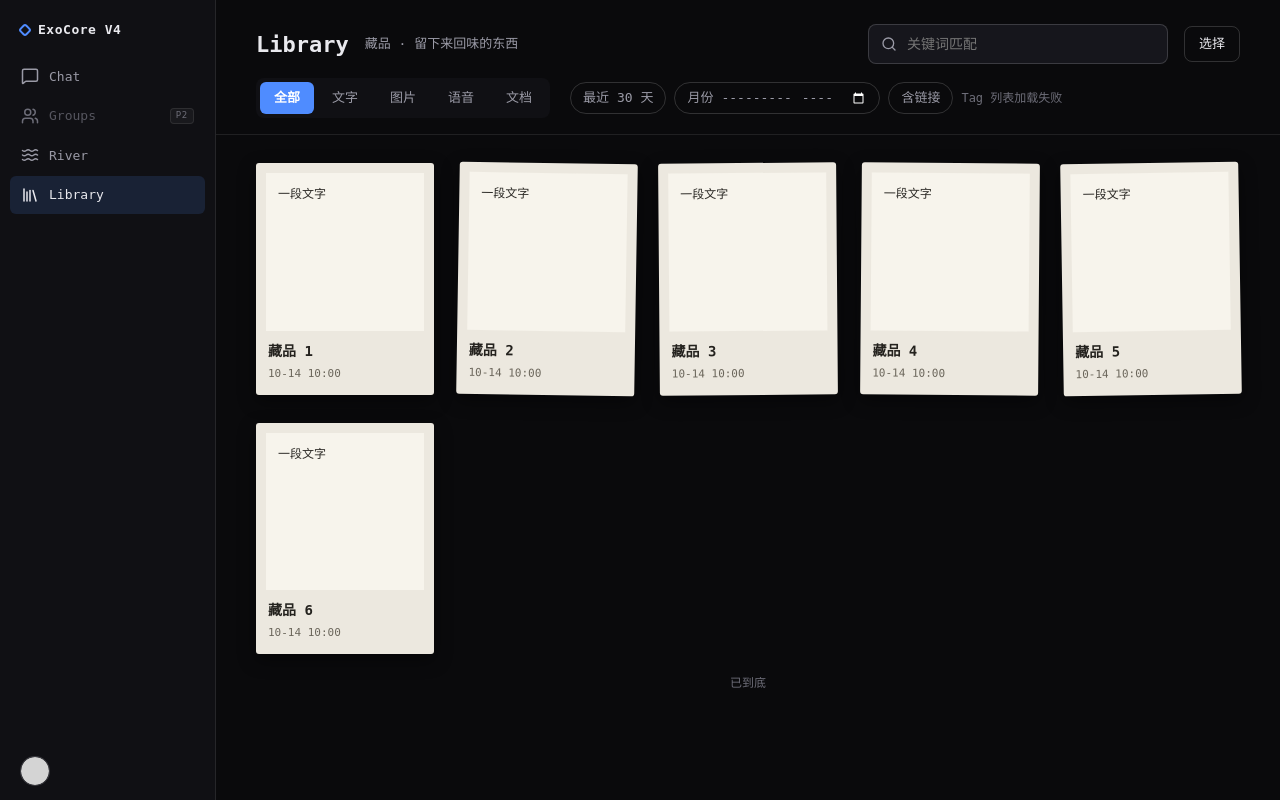
Test case: Library → chat bring-back (#61 CP5) › a card-only send carries collection_items in order with empty content and clears the cards
What coordinates should you click on to do the following:
click the button "选择"
I would click on:
 (1212, 44)
Its box is [1184,26,1240,62].
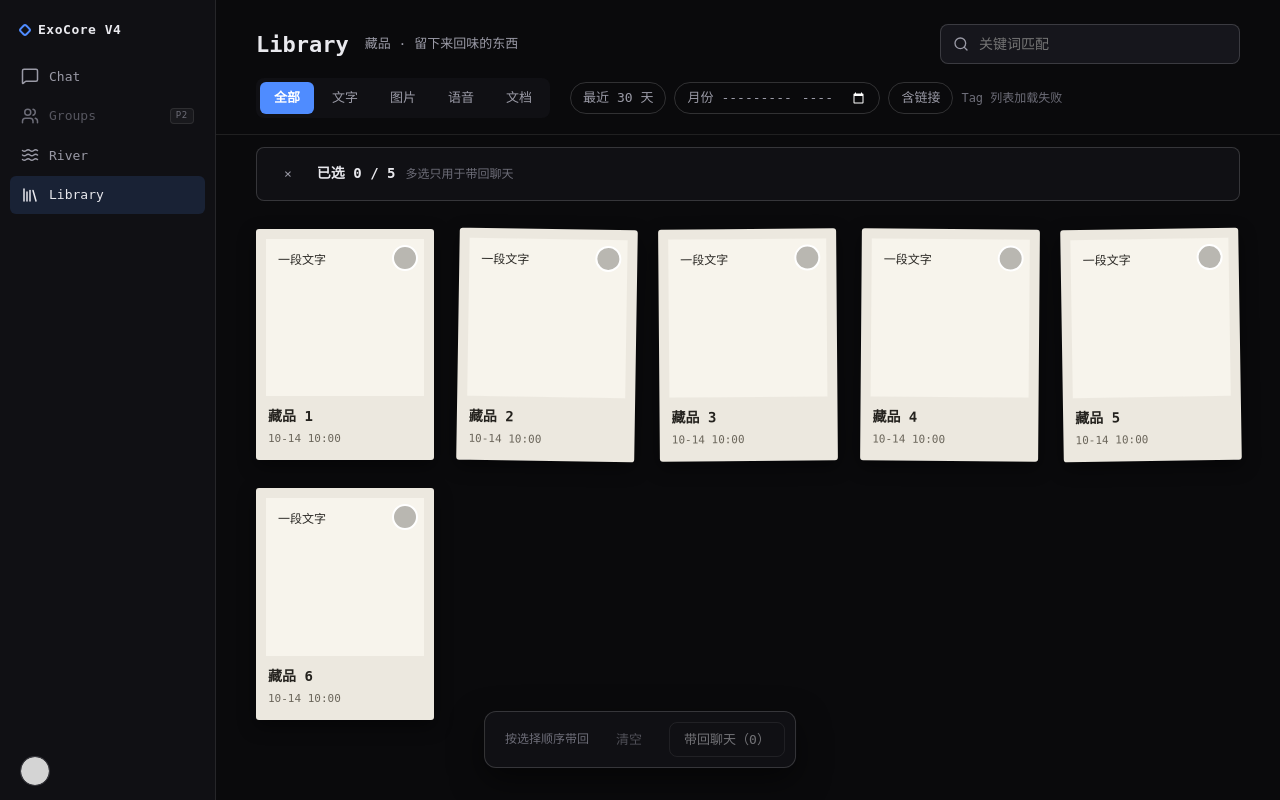
What coordinates should you click on to do the following:
click the button "藏品 6"
I would click on:
 (345, 676)
Its box is [268,666,422,687].
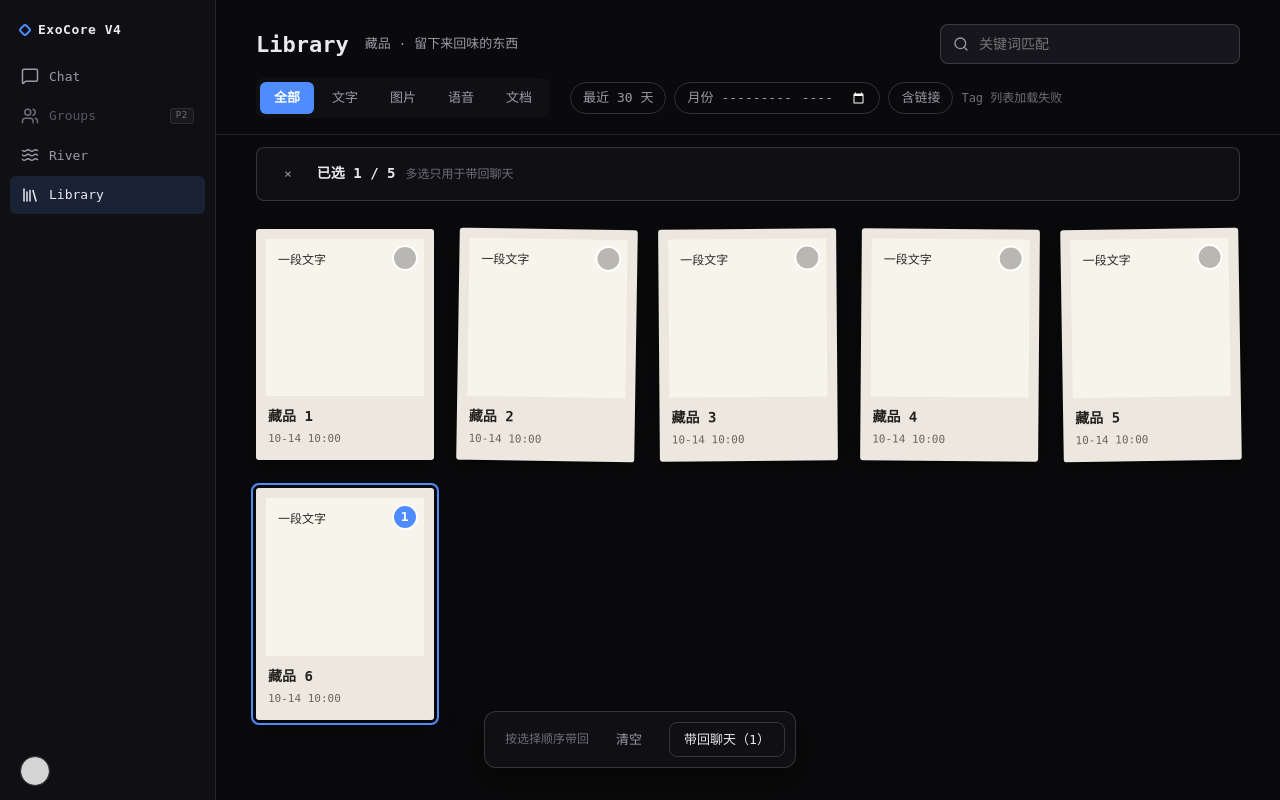
What coordinates should you click on to do the following:
click the button "藏品 2"
I would click on:
 (545, 417)
Its box is [468,405,622,428].
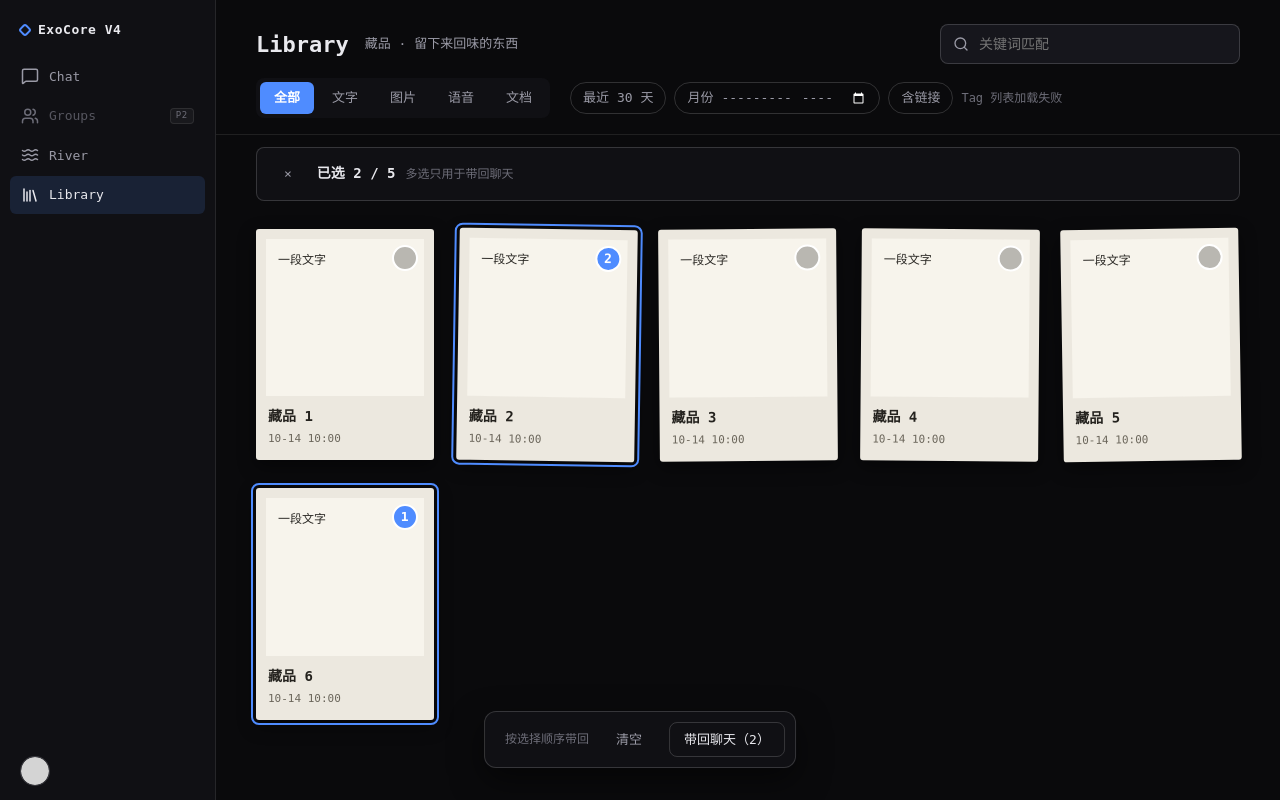
What coordinates should you click on to do the following:
click the button "带回聊天（2）"
I would click on:
 (727, 739)
Its box is [669,722,785,757].
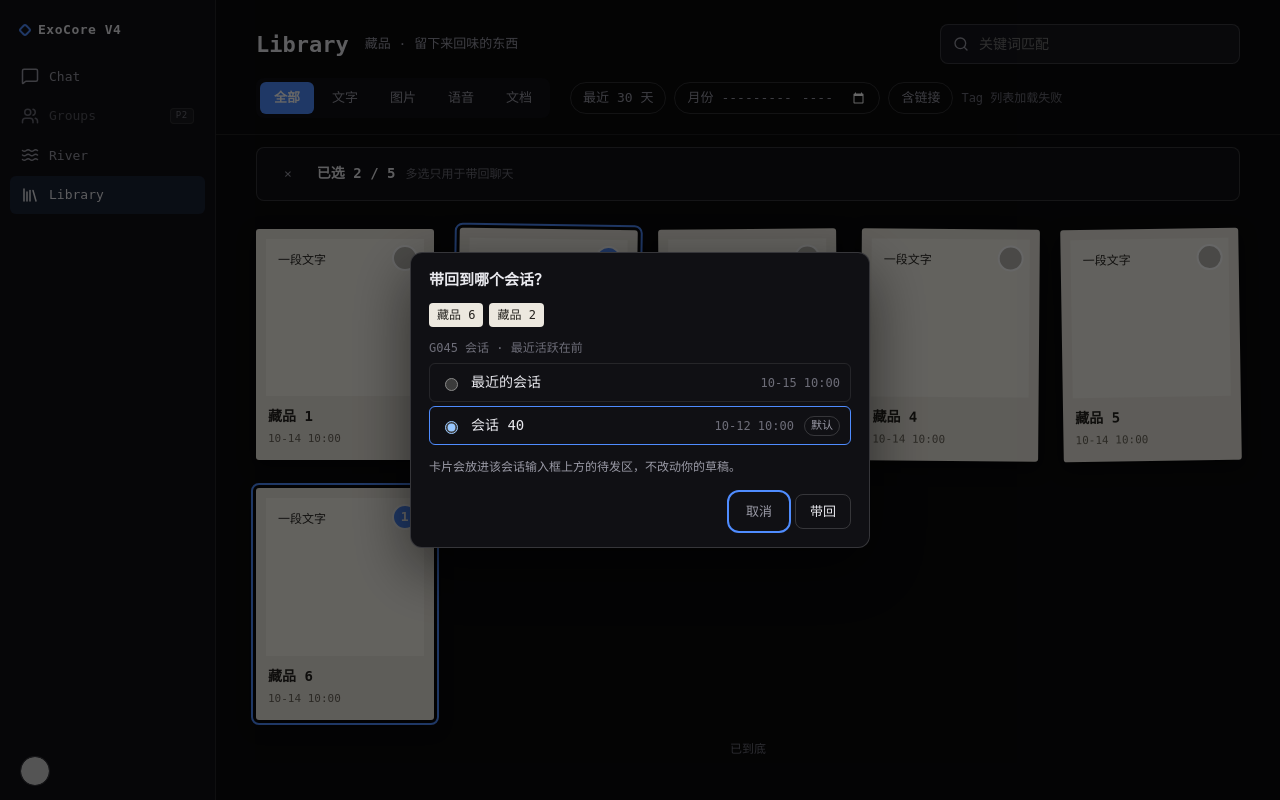
What coordinates should you click on to do the following:
click the button "带回"
I would click on:
 (823, 511)
Its box is [795,494,851,529].
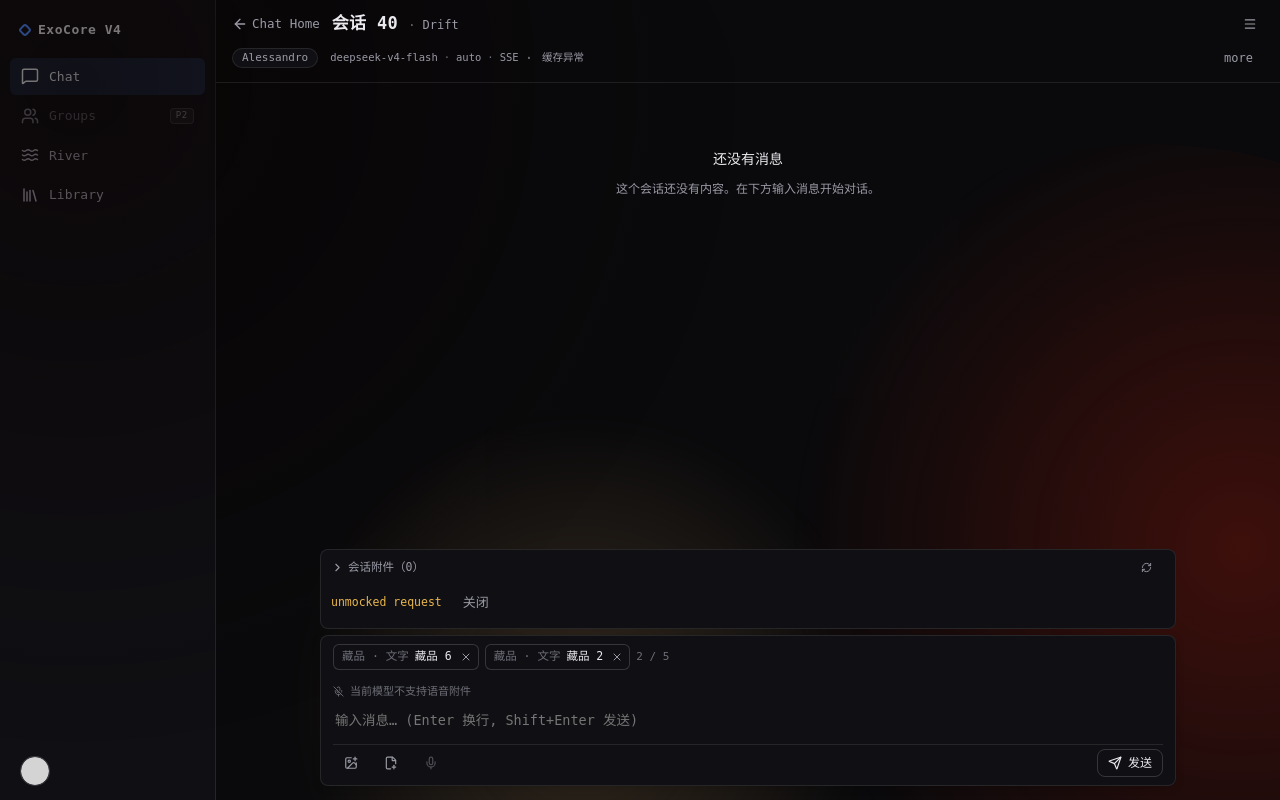
Now the button with aria-label "发送消息" is enabled
What coordinates should you click on to do the following:
click the button with aria-label "发送消息"
I would click on:
 (1130, 763)
Its box is [1097,749,1163,777].
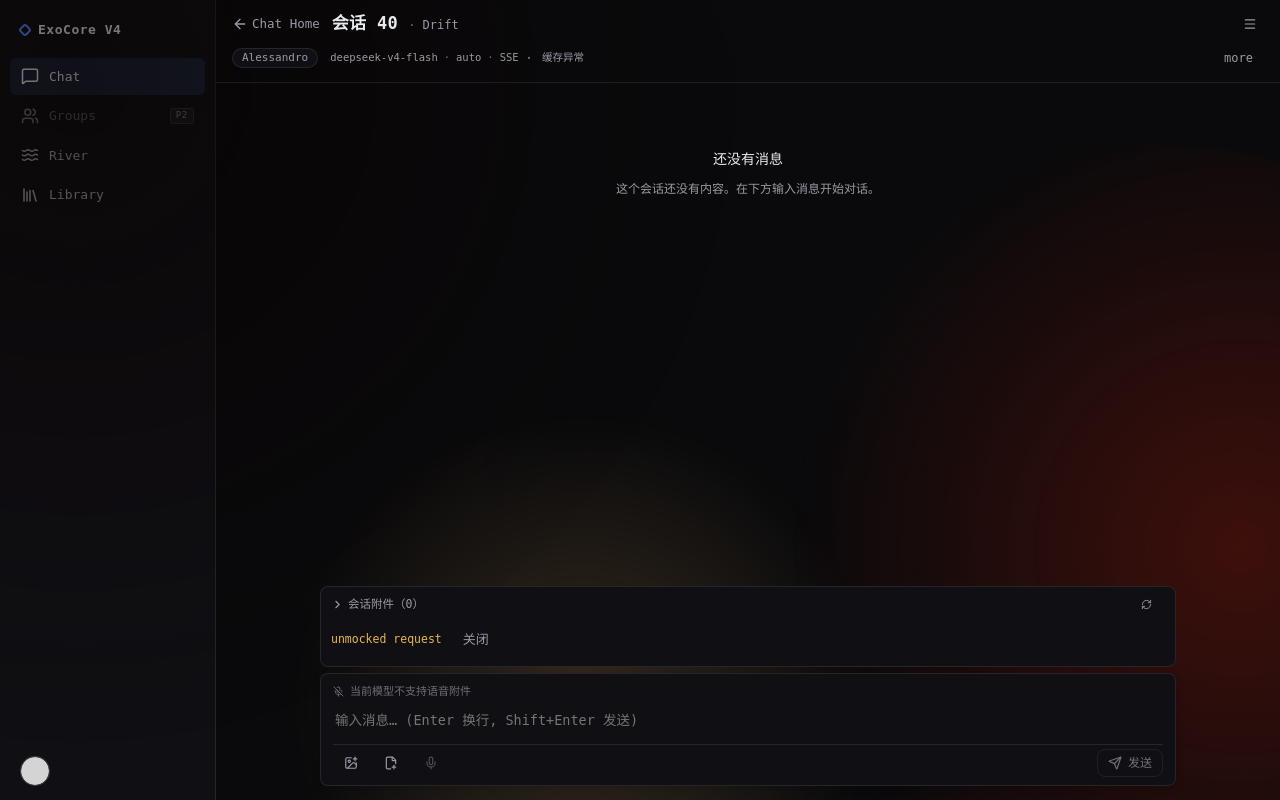
Now the field labelled "待发藏品卡" is gone
